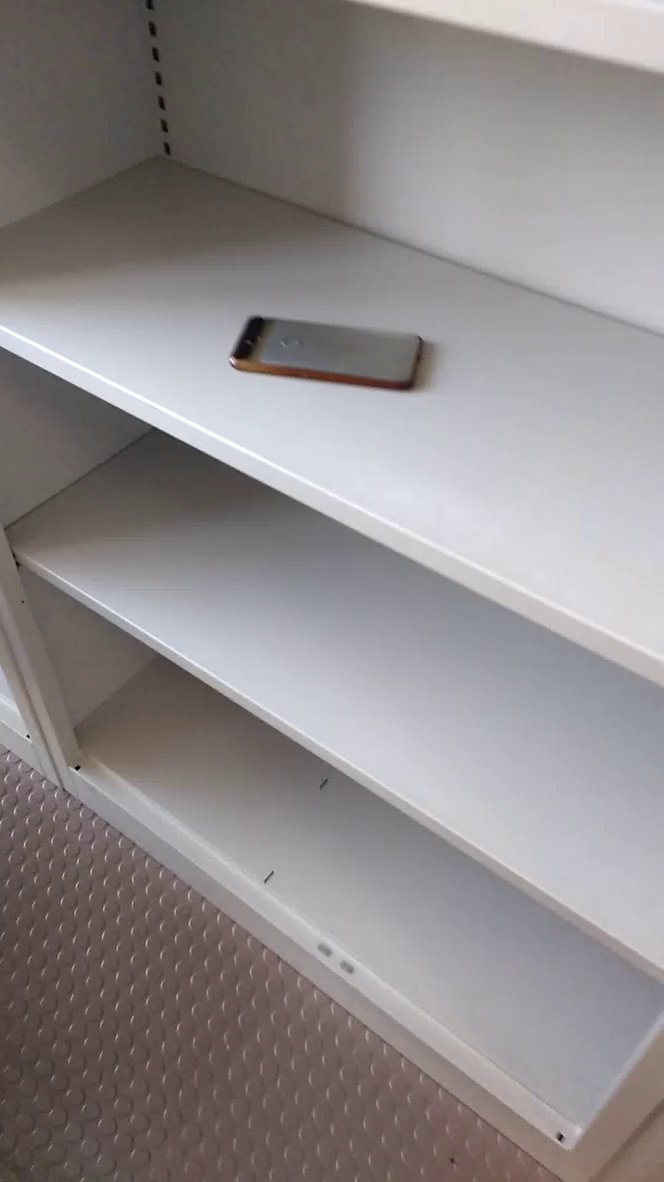phone: (220, 309, 432, 401)
